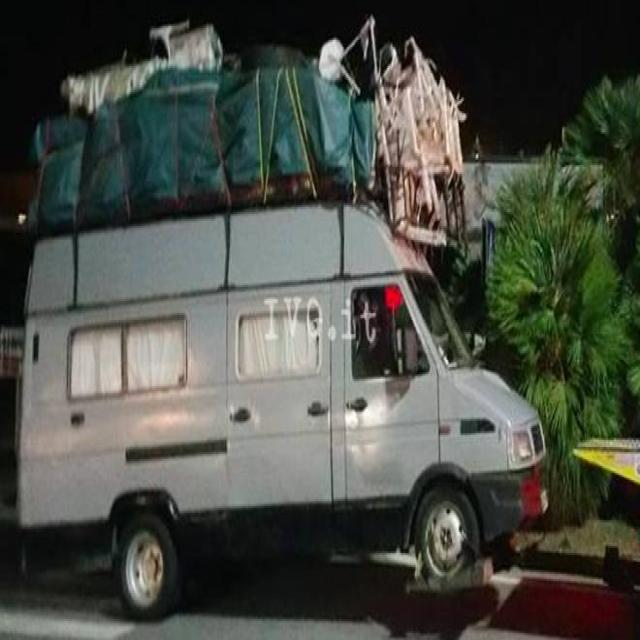overloaded_truck: (12, 14, 550, 619)
